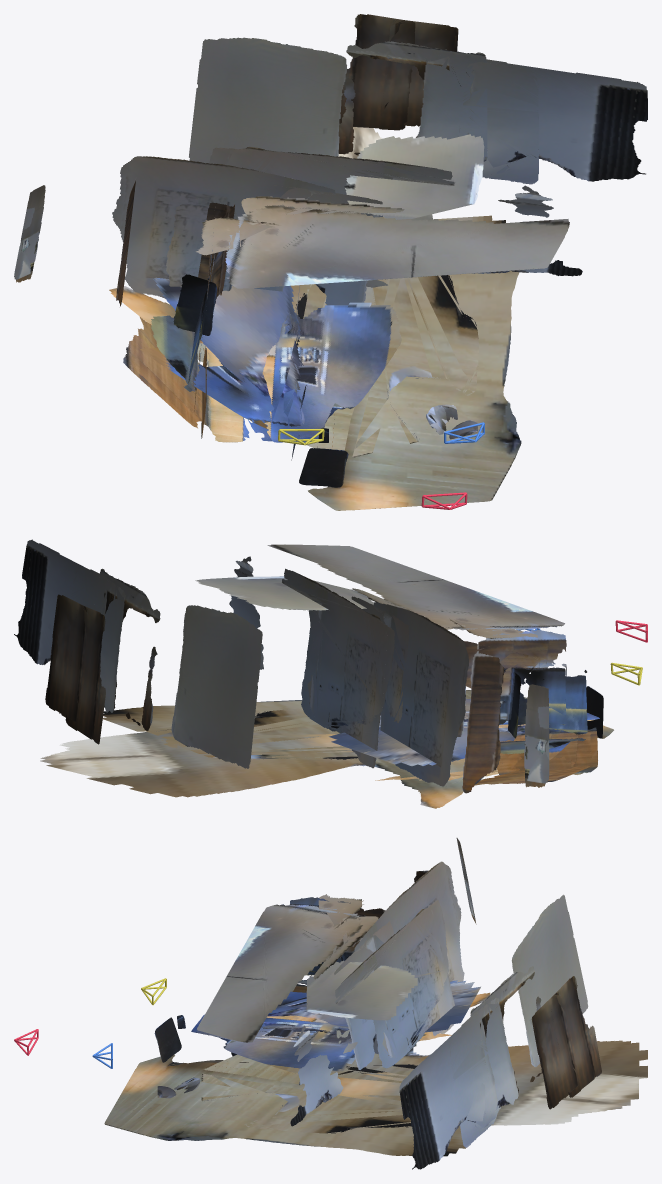
The model's file is pred.glb.
The picture shows the model from 3 angles, top to bottom: view 1: azimuth 30°, elevation 25°; view 2: azimuth 150°, elevation 25°; view 3: azimuth 270°, elevation 25°; orthographic projection. The views are drawn at different scales.
Parts seen in each view (by area): view 1: Node; view 2: Node; view 3: Node.
Boxes of the visible parts, x1,y1,x2,y2 form: Node: (14, 14, 647, 510); Node: (14, 539, 647, 808); Node: (14, 838, 647, 1169).
Bounding box in the file's own units: 12.38 × 5.28 × 13.47.
Materials: 43 (40 with a texture image).
